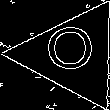O_S: (47, 28, 98, 80)
